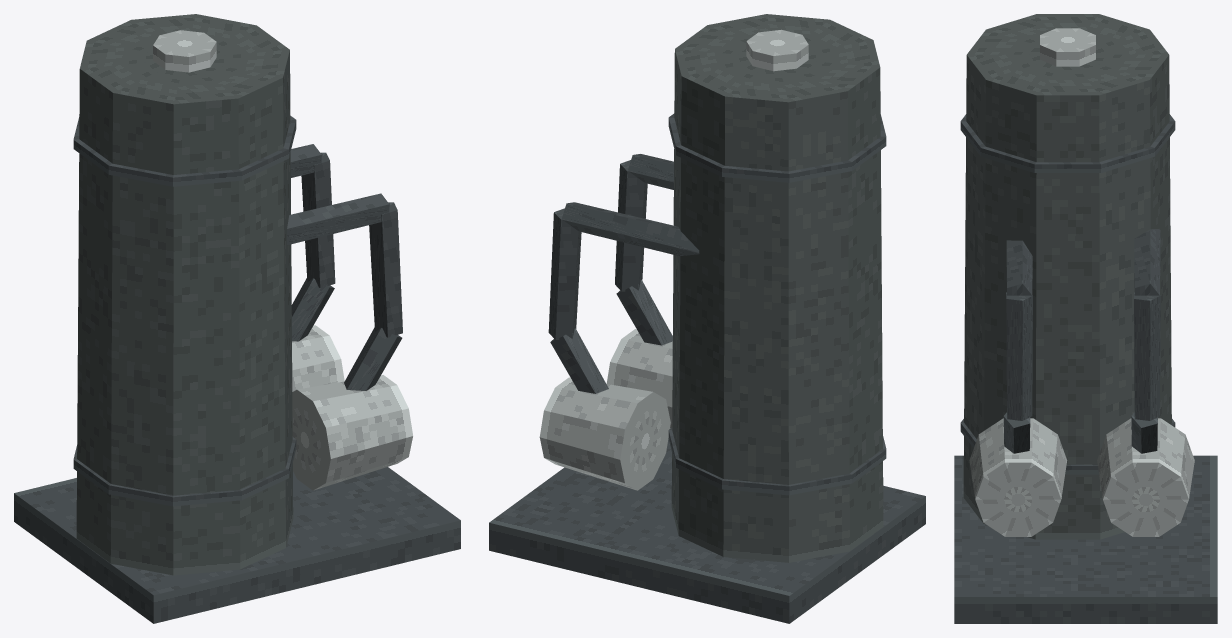
File: f_string_dimension_pump.glb
3 views of the same model, side by side, from view 1: azimuth 30°, elevation 25°; view 2: azimuth 150°, elevation 25°; view 3: azimuth 270°, elevation 25° (orthographic). The views are drawn at different scales.
Parts seen in each view (by area): view 1: block_pump-receiver-shell, block_machine-base, block_pump-housing (×2), block_tank-adapter-and-return-pipe-2 (×2), block_tank-adapter-and-return-pipe-1 (×2), block_tank-adapter-and-return-pipe-3 (×2), block_pump-receiver-band-0.84, block_pump-receiver-band-0.16, block_pump-receiver-cap; view 2: block_pump-receiver-shell, block_machine-base, block_pump-housing (×2), block_tank-adapter-and-return-pipe-2 (×2), block_tank-adapter-and-return-pipe-1 (×2), block_tank-adapter-and-return-pipe-3 (×2), block_pump-receiver-band-0.84, block_pump-receiver-band-0.16, block_pump-receiver-cap; view 3: block_pump-receiver-shell, block_machine-base, block_pump-housing (×2), block_tank-adapter-and-return-pipe-2 (×2), block_tank-adapter-and-return-pipe-1 (×2), block_pump-receiver-band-0.84, block_pump-receiver-cap, block_tank-adapter-and-return-pipe-3 (×2), block_pump-receiver-band-0.16.
Part boxes in pixels (x1=…): block_pump-receiver-shell: x1=76, y1=14, x2=293, y2=575; block_machine-base: x1=14, y1=467, x2=460, y2=623; block_pump-housing (×2): x1=292, y1=325, x2=412, y2=490; block_tank-adapter-and-return-pipe-2 (×2): x1=301, y1=152, x2=402, y2=337; block_tank-adapter-and-return-pipe-1 (×2): x1=287, y1=144, x2=389, y2=245; block_tank-adapter-and-return-pipe-3 (×2): x1=291, y1=278, x2=402, y2=390; block_pump-receiver-band-0.84: x1=73, y1=115, x2=296, y2=186; block_pump-receiver-band-0.16: x1=73, y1=437, x2=296, y2=506; block_pump-receiver-cap: x1=153, y1=30, x2=216, y2=72; block_pump-receiver-shell: x1=671, y1=14, x2=883, y2=562; block_machine-base: x1=489, y1=438, x2=925, y2=623; block_pump-housing (×2): x1=539, y1=329, x2=672, y2=490; block_tank-adapter-and-return-pipe-2 (×2): x1=548, y1=160, x2=647, y2=339; block_tank-adapter-and-return-pipe-1 (×2): x1=561, y1=154, x2=699, y2=256; block_tank-adapter-and-return-pipe-3 (×2): x1=550, y1=280, x2=672, y2=393; block_pump-receiver-band-0.84: x1=668, y1=113, x2=886, y2=182; block_pump-receiver-band-0.16: x1=668, y1=427, x2=886, y2=495; block_pump-receiver-cap: x1=746, y1=29, x2=808, y2=71; block_pump-receiver-shell: x1=963, y1=14, x2=1171, y2=539; block_machine-base: x1=954, y1=455, x2=1217, y2=623; block_pump-housing (×2): x1=969, y1=418, x2=1194, y2=536; block_tank-adapter-and-return-pipe-2 (×2): x1=1006, y1=292, x2=1160, y2=420; block_tank-adapter-and-return-pipe-1 (×2): x1=1006, y1=229, x2=1160, y2=295; block_pump-receiver-band-0.84: x1=960, y1=114, x2=1175, y2=172; block_pump-receiver-cap: x1=1040, y1=28, x2=1095, y2=66; block_tank-adapter-and-return-pipe-3 (×2): x1=1003, y1=412, x2=1157, y2=453; block_pump-receiver-band-0.16: x1=960, y1=419, x2=1175, y2=474.
Bounding box in the file's own units: 0.9167 × 1.45 × 0.716.
1 material, 1 textured.
